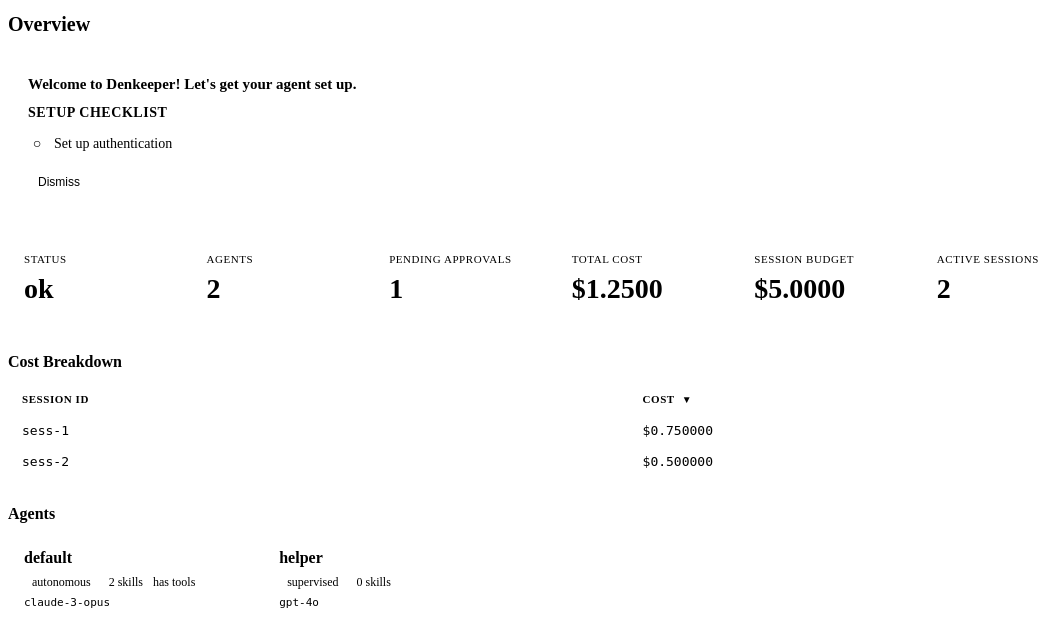
Test case: Overview page › dismiss button hides onboarding card
The image size is (1055, 625).
Expected: the heading "Setup Checklist" is shown, [28,105,168,120]
Click the button "Dismiss".
click(59, 182)  # box [28,171,90,193]
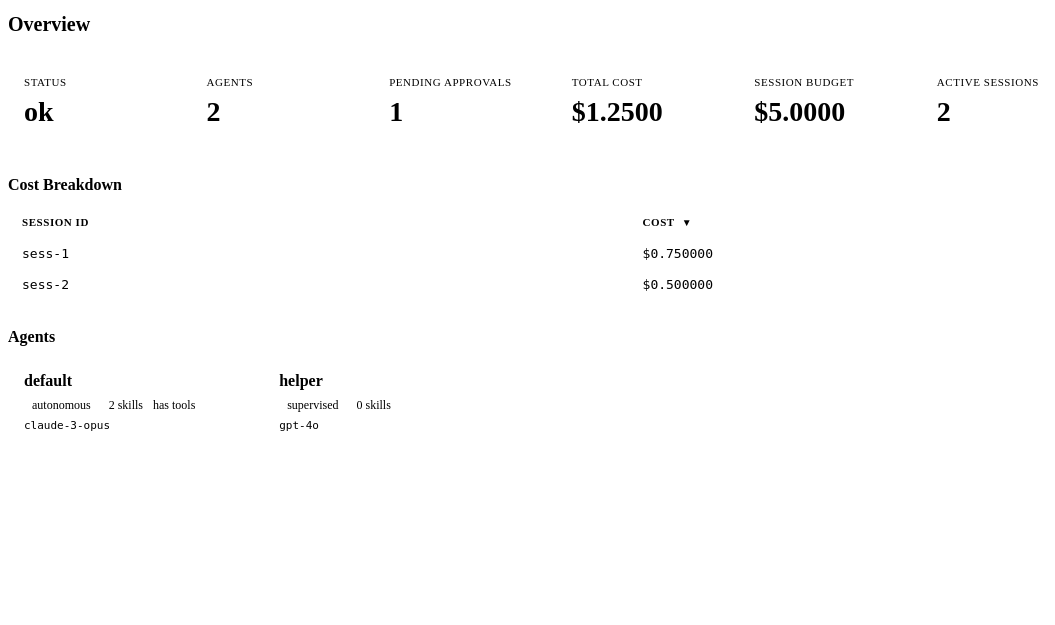
Now the heading "Setup Checklist" is gone
